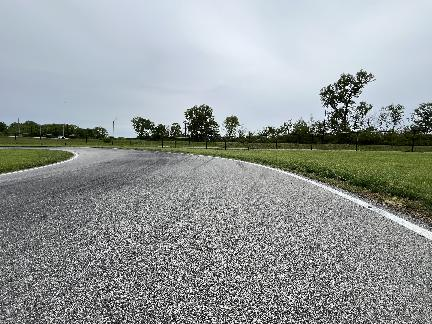Grass: (132, 141, 431, 222), (148, 148, 431, 221), (0, 137, 205, 148), (0, 149, 73, 173)
Lane: (0, 148, 431, 323)
